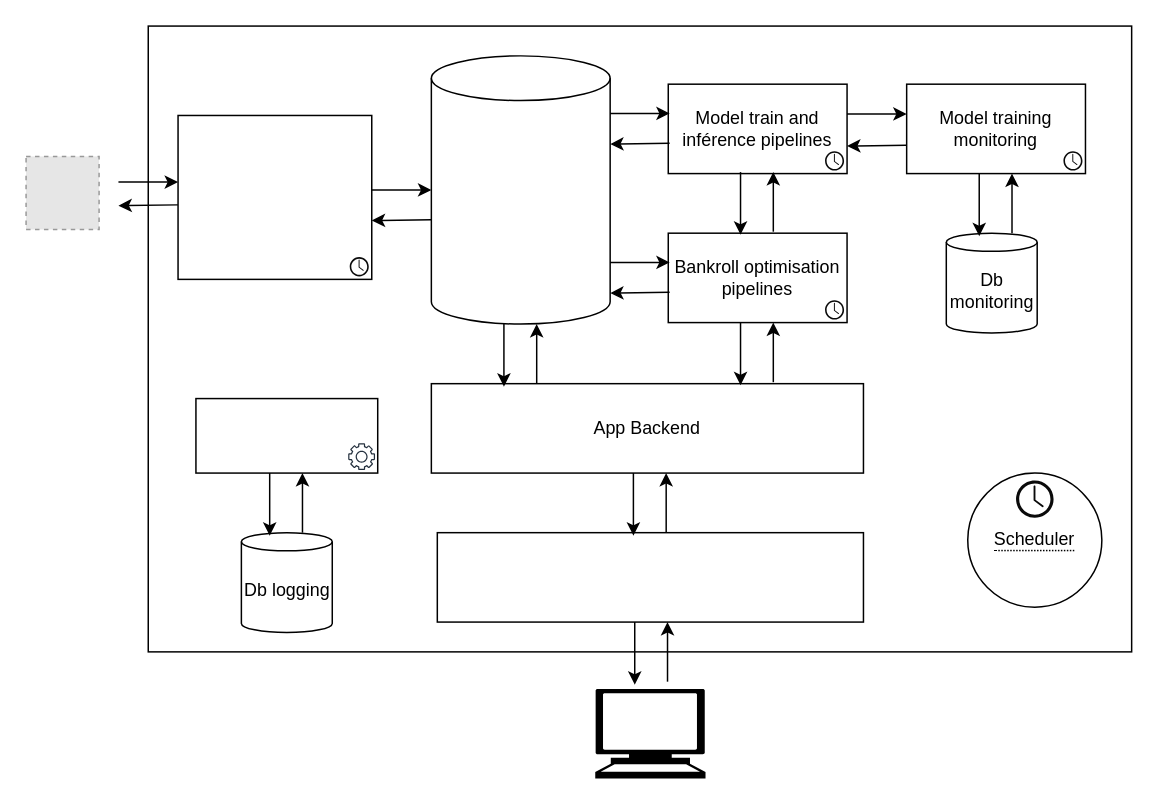
Image size: 1158x805. Some labels were removed from this diagram. Grey dashed boxes stand in for pictures. The box of each missing label's shape, as (x1, y1, x2, y2) in pixels:
App Frontend: (436, 531, 863, 622)
Data Ingestion service: (177, 114, 372, 279)
Database: (430, 54, 610, 324)
Logging system: (194, 397, 378, 473)
